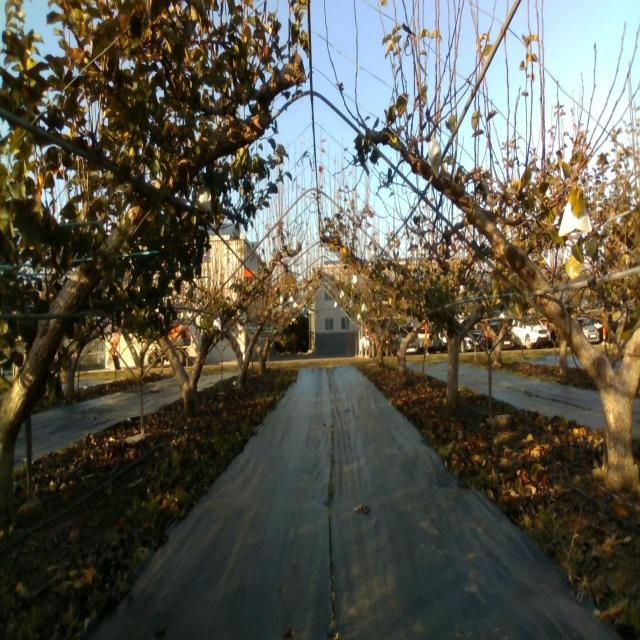pearbags: (558, 200, 593, 237), (428, 137, 442, 179), (194, 184, 212, 213)
